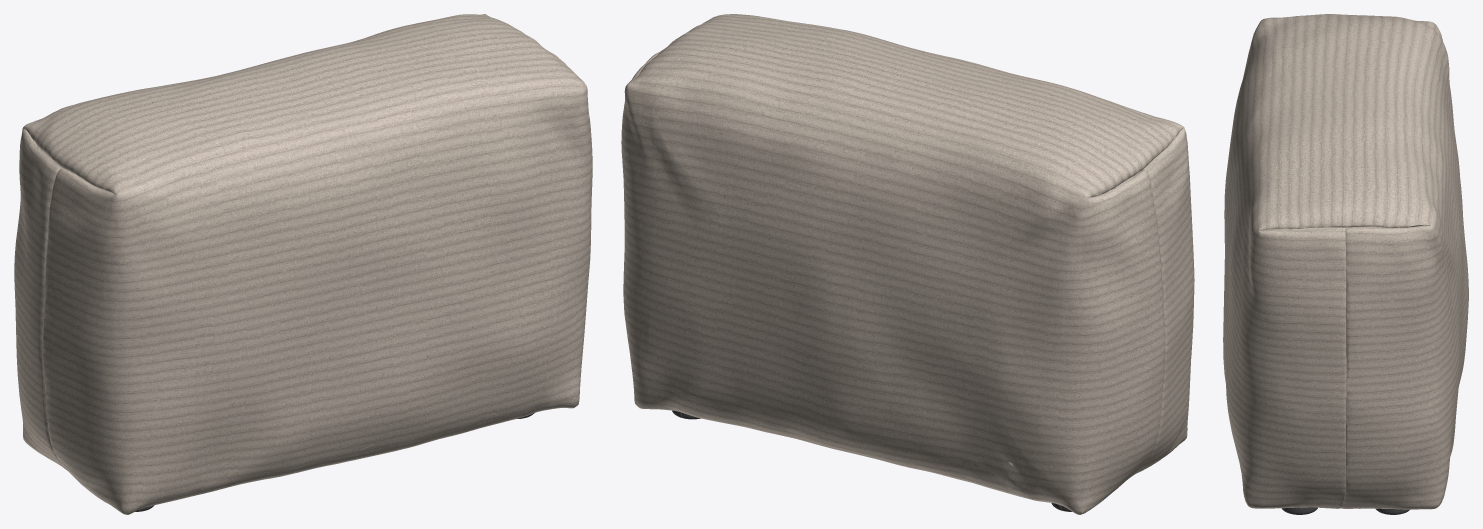
Rendered from side-m.glb.
The picture shows the model from 3 angles, left to right: view 1: azimuth 30°, elevation 25°; view 2: azimuth 150°, elevation 25°; view 3: azimuth 270°, elevation 25°; orthographic projection. The views are drawn at different scales.
Parts seen in each view (by area): view 1: vetsak_side_m; view 2: vetsak_side_m; view 3: vetsak_side_m, vetsak_side_m_LEGS.
Part boxes in pixels (box(x1,y1,x2,y2)): vetsak_side_m: box(14, 14, 592, 514); vetsak_side_m: box(621, 14, 1194, 514); vetsak_side_m: box(1223, 14, 1468, 509); vetsak_side_m_LEGS: box(1282, 507, 1409, 514).
Bounding box in the file's own units: 90.7 × 60.32 × 40.92.
Materials: 3 (1 with a texture image).
